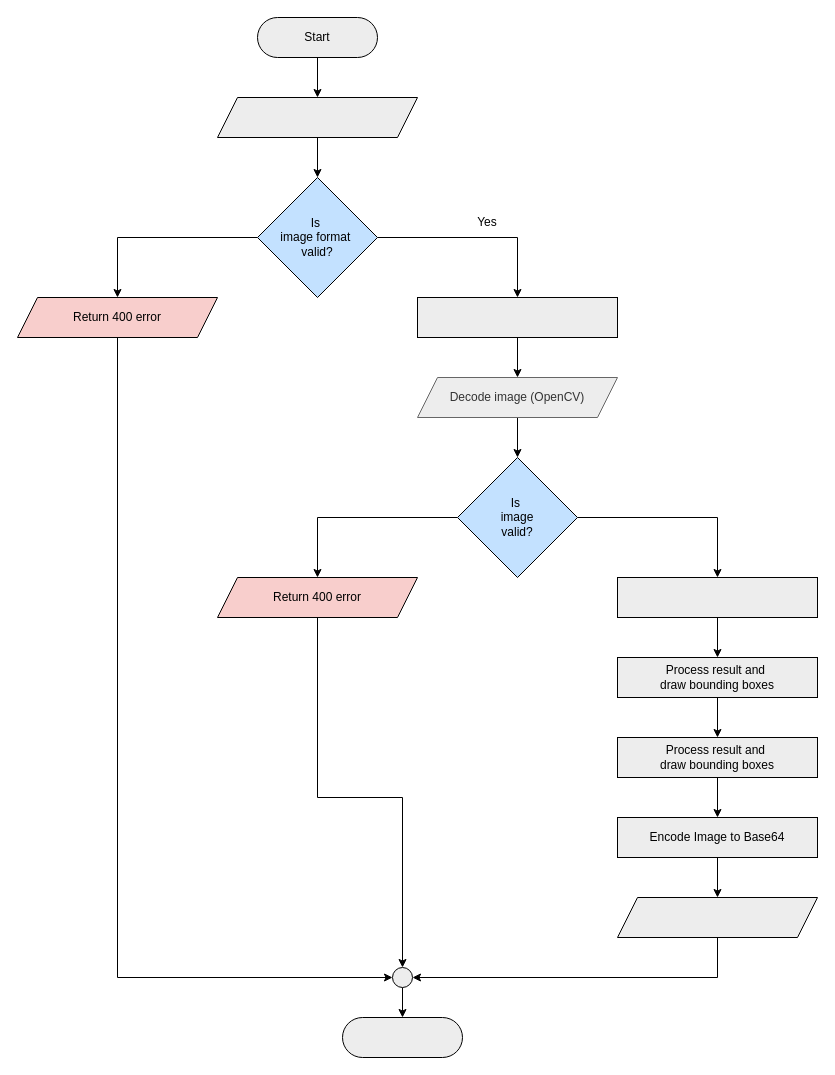
Some shapes in this 835 by 1075 pixel diagram are drawn without their labels. Here are the shapes that lost their labels. From the top down, the centre of each, then its label:
At point 317,117: "Client sends POST /detect endpoint".
At point 517,317: "Acquire Semaphore Slot (Max 10 Concurrent)".
At point 717,597: "Thread-safe inference (YOLO model)".
At point 717,917: "JSON respone".
At point 402,1037: "End".
